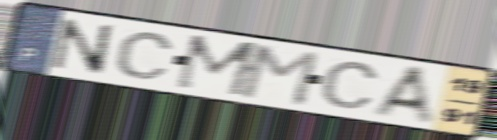A: (368, 64, 438, 128)
C: (318, 59, 383, 110), (112, 30, 177, 80)
M: (171, 32, 264, 100), (236, 43, 322, 108)
N: (49, 16, 115, 78)
